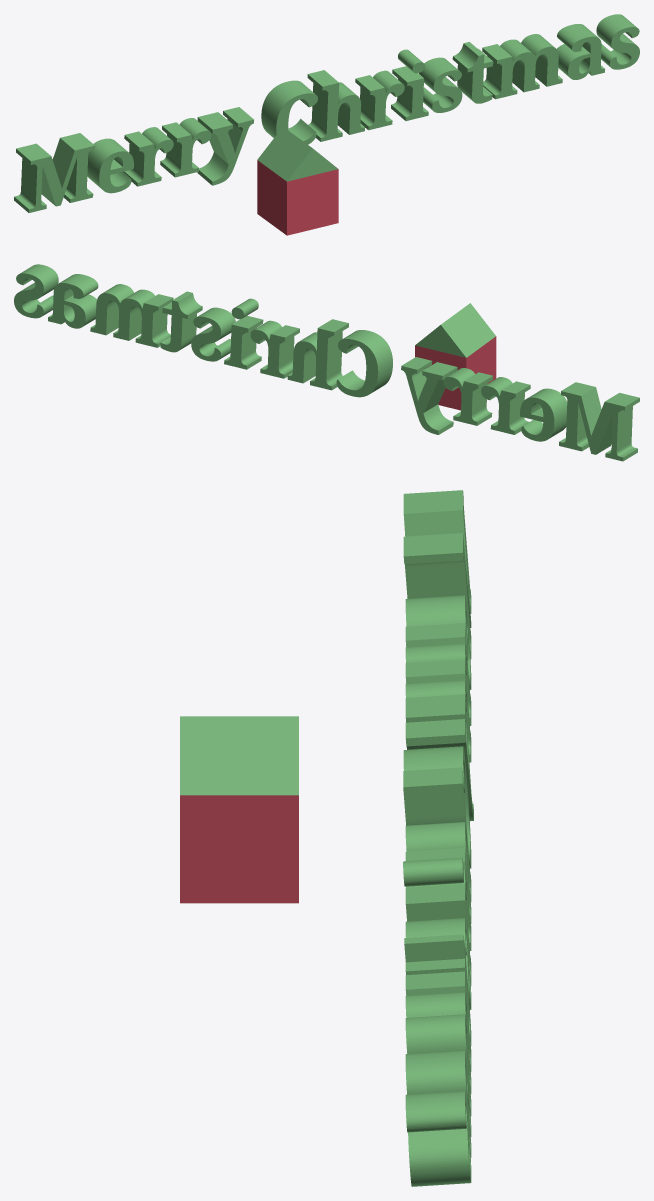
File: thing.glb
The picture shows the model from 3 angles, top to bottom: view 1: azimuth 30°, elevation 25°; view 2: azimuth 150°, elevation 25°; view 3: azimuth 270°, elevation 25°; orthographic projection. The views are drawn at different scales.
Visible parts, largest first — view 1: Mesh_Mesh_head_geo.001_lambert2SG.001; view 2: Mesh_Mesh_head_geo.001_lambert2SG.001; view 3: Mesh_Mesh_head_geo.001_lambert2SG.001.
Boxes of the visible parts, x1,y1,x2,y2 form: Mesh_Mesh_head_geo.001_lambert2SG.001: (14, 14, 639, 235); Mesh_Mesh_head_geo.001_lambert2SG.001: (14, 264, 639, 461); Mesh_Mesh_head_geo.001_lambert2SG.001: (180, 490, 473, 1186).
Bounding box in the file's own units: 237 × 32.68 × 49.43.
